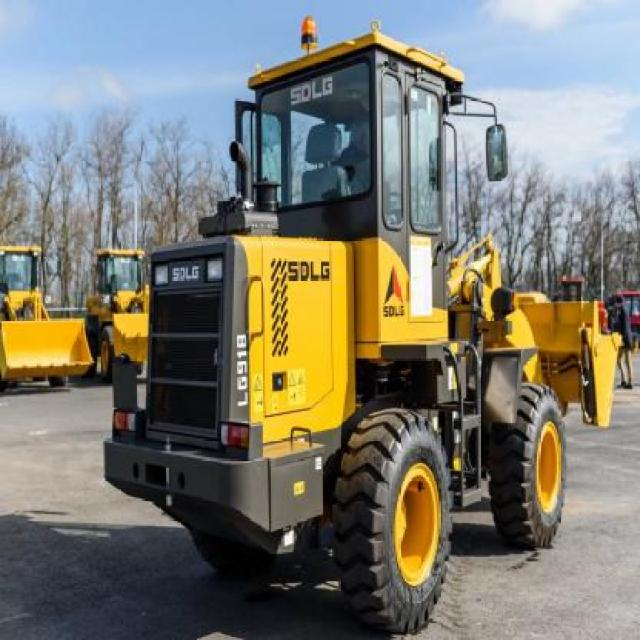buldozerpayloadergrader: (81, 7, 632, 634)
